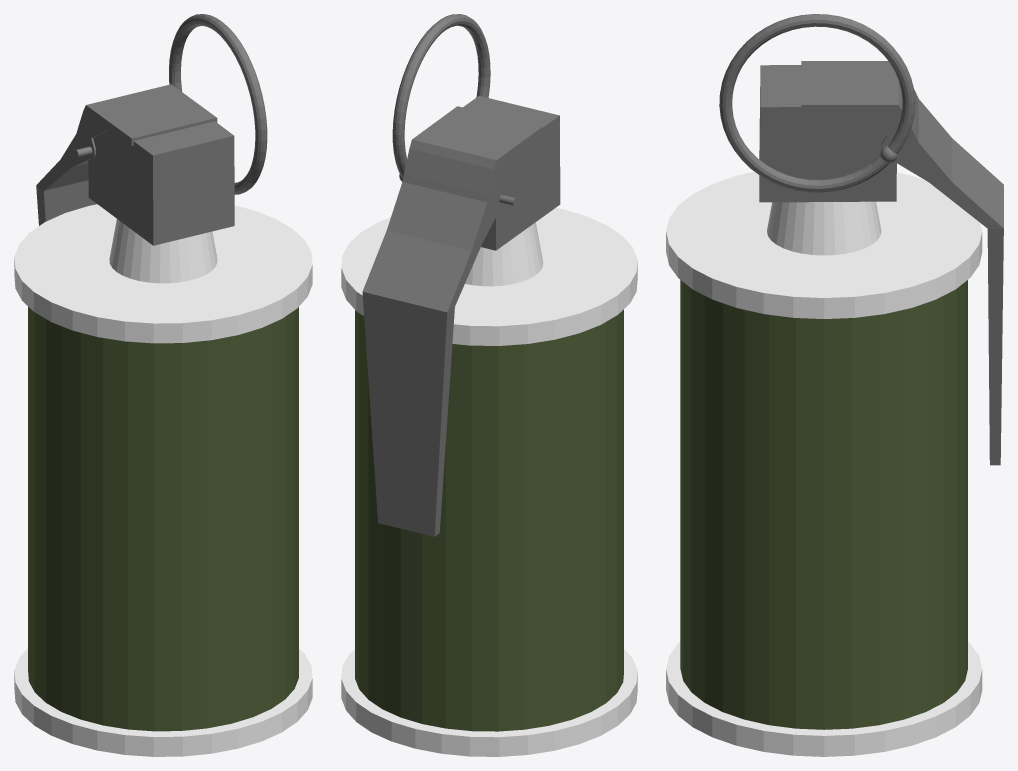
The model's file is Smoke Grenade.fbx.
The picture shows the model from 3 angles, left to right: view 1: azimuth 30°, elevation 25°; view 2: azimuth 150°, elevation 25°; view 3: azimuth 270°, elevation 25°; orthographic projection. The views are drawn at different scales.
Parts seen in each view (by area): view 1: Smoke Grenade, Smoke Grenade Spoon, Smoke Grenade Pin; view 2: Smoke Grenade, Smoke Grenade Spoon, Smoke Grenade Pin; view 3: Smoke Grenade, Smoke Grenade Spoon, Smoke Grenade Pin.
Boxes of the visible parts, x1,y1,x2,y2 form: Smoke Grenade: [14, 121, 312, 756]; Smoke Grenade Spoon: [36, 84, 217, 225]; Smoke Grenade Pin: [74, 14, 267, 194]; Smoke Grenade: [341, 96, 637, 756]; Smoke Grenade Spoon: [362, 106, 542, 536]; Smoke Grenade Pin: [392, 14, 517, 205]; Smoke Grenade: [666, 65, 982, 756]; Smoke Grenade Spoon: [801, 61, 1003, 465]; Smoke Grenade Pin: [719, 14, 915, 192].
Bounding box in the file's own units: 160 × 392 × 171.
